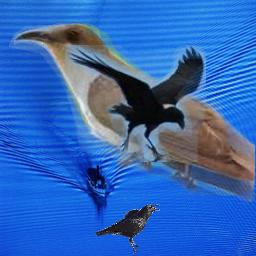Crow: (65, 45, 206, 162), (95, 204, 160, 254)
Cuckoo: (9, 23, 255, 204)
